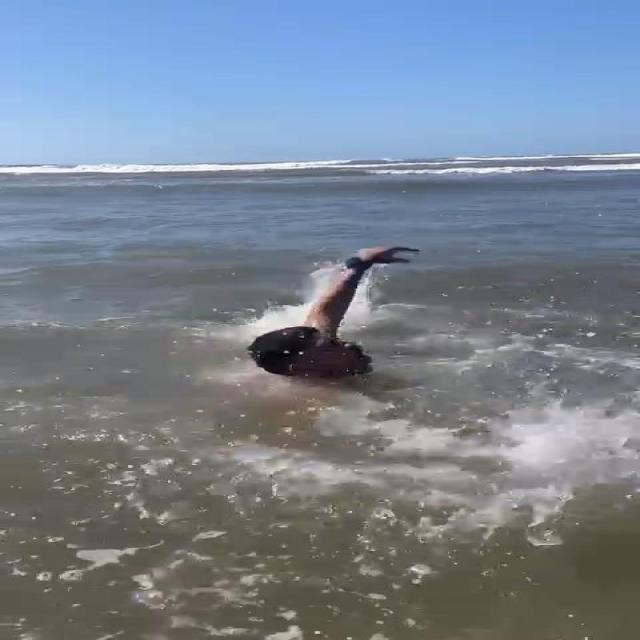Out of Water: (240, 242, 424, 381)
